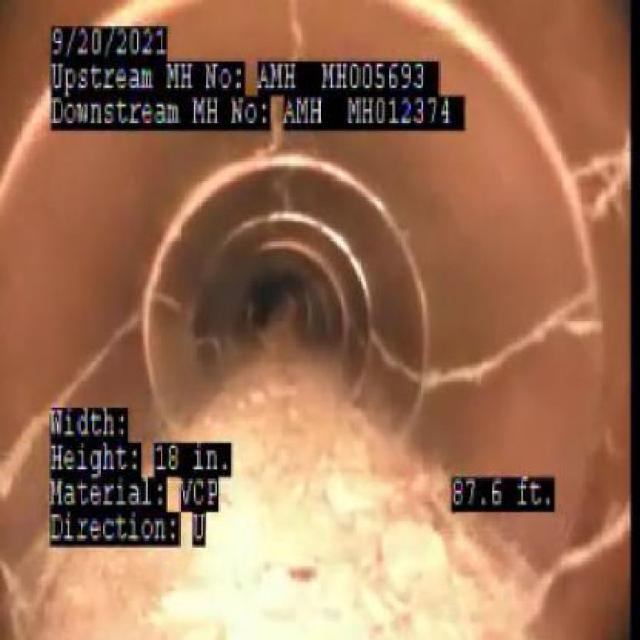Crack: (425, 293, 592, 402), (55, 308, 140, 410), (568, 120, 638, 223), (0, 408, 43, 504)
Joint offset: (180, 146, 342, 205)
